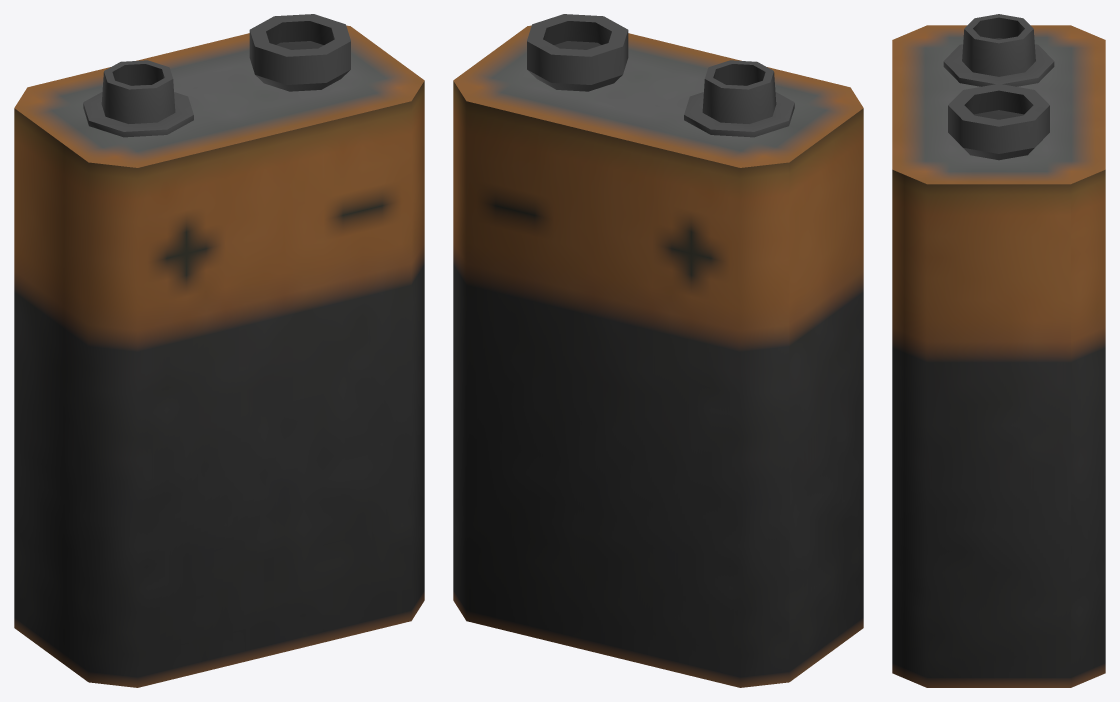
File: battery_mp_3_2.dae
3 renders of one model, left to right at view 1: azimuth 30°, elevation 25°; view 2: azimuth 150°, elevation 25°; view 3: azimuth 270°, elevation 25°, orthographic. The views are drawn at different scales.
Visible parts, largest first — view 1: battery_mp_3_2; view 2: battery_mp_3_2; view 3: battery_mp_3_2.
Part boxes in pixels (x1,y1,x2,y2): battery_mp_3_2: (14,14,424,687); battery_mp_3_2: (453,14,863,687); battery_mp_3_2: (892,14,1105,687).
Size of the model in its own units: 0.0648 by 0.0368 by 0.103.
1 material, 1 textured.
